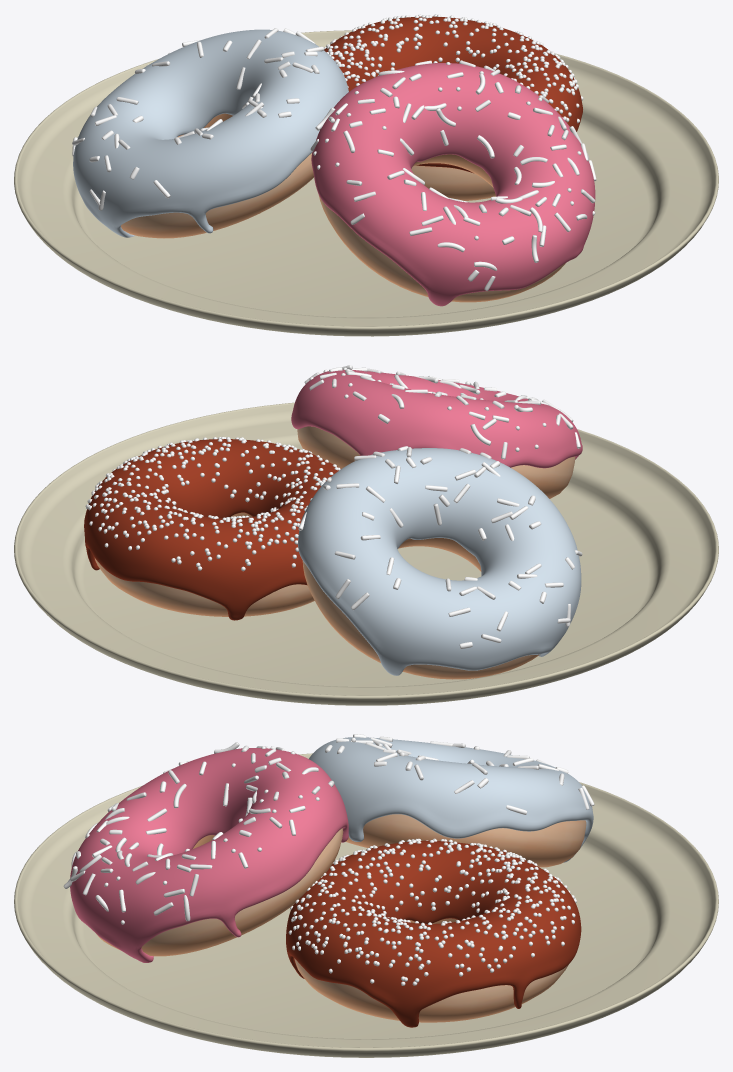
File: Donut.glb
3 views of the same model, one above another, from view 1: azimuth 30°, elevation 25°; view 2: azimuth 150°, elevation 25°; view 3: azimuth 270°, elevation 25° (orthographic).
Parts seen in each view (by area): view 1: Plate, Icing.002, BlueIcing, ChocolateIcing, Donut.001, Donut.002, Donut; view 2: Plate, BlueIcing, ChocolateIcing, Icing.002, Donut.001, Donut, Donut.002; view 3: Plate, ChocolateIcing, Icing.002, BlueIcing, Donut.001, Donut.002, Donut.
Boxes of the visible parts, x1,y1,x2,y2 form: Plate: (14,30,718,336); Icing.002: (310,60,596,306); BlueIcing: (72,28,348,237); ChocolateIcing: (324,14,583,173); Donut.001: (121,113,313,238); Donut.002: (318,154,565,302); Donut: (411,165,495,200); Plate: (14,402,718,705); BlueIcing: (298,446,582,675); ChocolateIcing: (84,436,340,620); Icing.002: (291,365,582,468); Donut.001: (302,538,539,679); Donut: (95,512,314,616); Donut.002: (297,426,575,498); Plate: (14,753,718,1057); ChocolateIcing: (286,838,581,1027); Icing.002: (63,742,348,962); BlueIcing: (309,734,594,862); Donut.001: (345,814,586,867); Donut.002: (96,828,343,956); Donut: (294,918,568,1022).
Size of the model in its own units: 0.7287 by 0.1893 by 0.7287.
6 materials, 1 textured.
